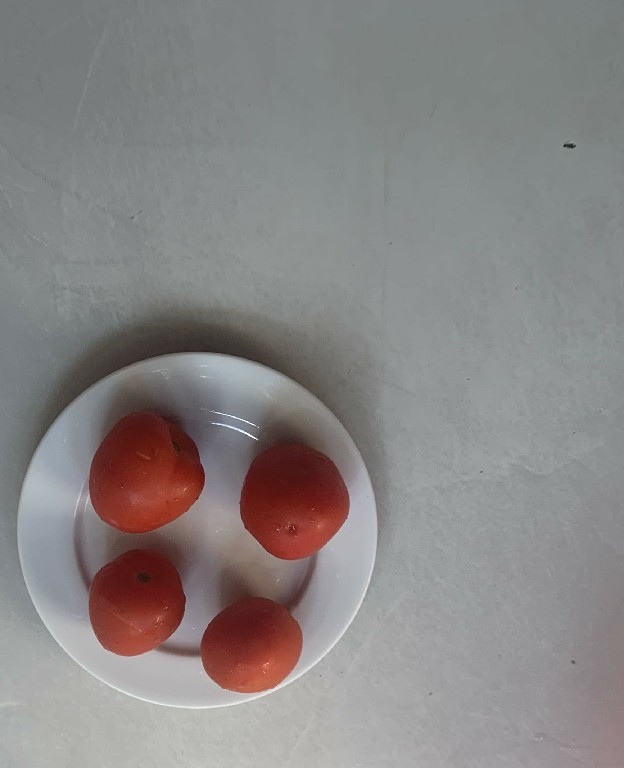OK: (92, 404, 211, 534), (240, 439, 350, 561), (84, 546, 190, 655), (203, 594, 301, 696)
